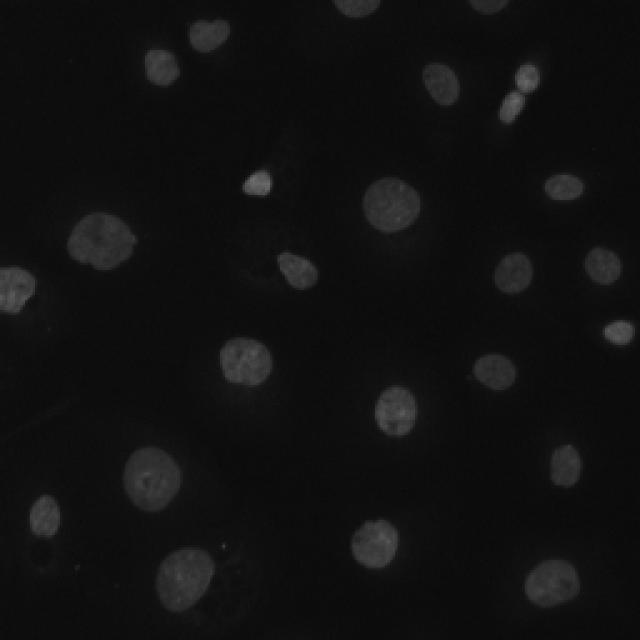cell: (0, 0, 640, 640), (68, 212, 138, 271), (68, 212, 136, 271), (122, 448, 181, 513), (158, 549, 216, 613), (362, 178, 421, 233), (220, 338, 272, 387), (499, 62, 540, 124), (525, 561, 579, 608), (350, 519, 399, 569), (374, 385, 419, 438), (492, 251, 532, 294), (422, 62, 460, 107), (471, 355, 516, 392), (0, 268, 36, 313), (30, 495, 61, 541), (281, 252, 319, 289), (550, 445, 581, 488), (585, 248, 621, 284), (146, 49, 180, 87), (190, 20, 229, 52), (546, 175, 584, 202), (602, 320, 635, 347), (241, 169, 272, 197), (334, 1, 381, 18), (469, 1, 509, 14), (35, 542, 52, 567)
